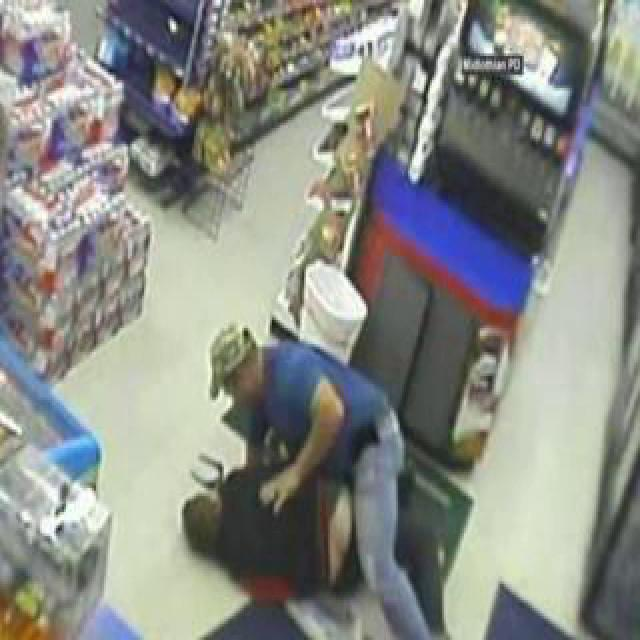arrest: (53, 229, 472, 640)
